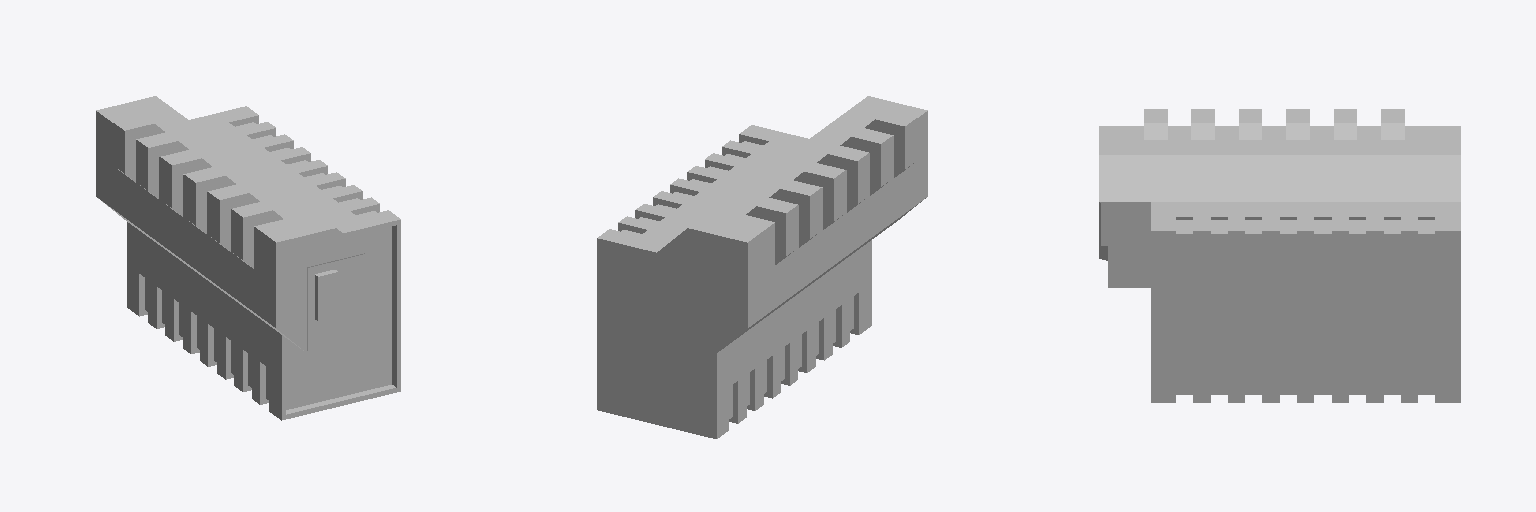
The model's file is Building3Alt.obj.
3 views of the same model, side by side, from view 1: azimuth 30°, elevation 25°; view 2: azimuth 150°, elevation 25°; view 3: azimuth 270°, elevation 25° (orthographic).
Parts seen in each view (by area): view 1: Cube.001; view 2: Cube.001; view 3: Cube.001.
Boxes of the visible parts, <box> form: Cube.001: <box>96,96,400,420</box>; Cube.001: <box>597,96,927,438</box>; Cube.001: <box>1099,109,1460,402</box>.
Size of the model in its own units: 462 by 590 by 895.